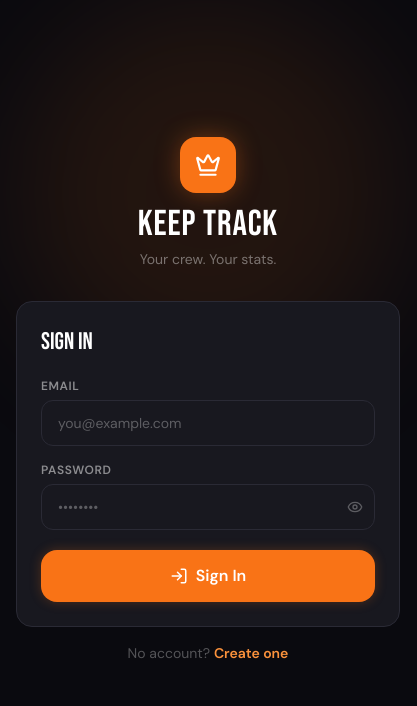
Test case: LoginPage › shows error on invalid MFA code
Step 1. Type "a@a.com" into the field with placeholder "you@example.com" → (208, 423), box [41,400,375,446]
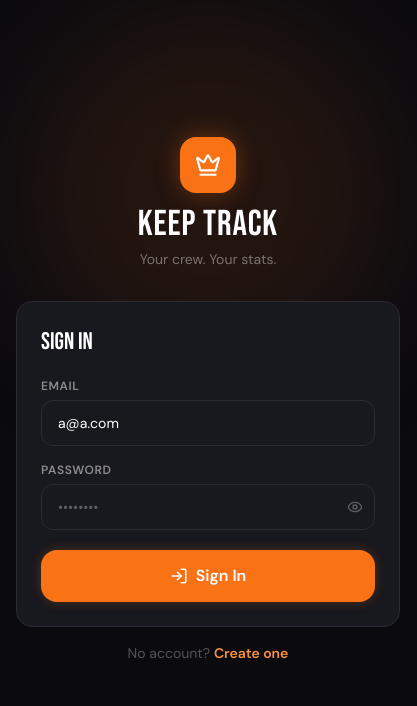
Step 2. Type "password1" into the password field with placeholder "••••••••" → (208, 507), box [41,484,375,530]
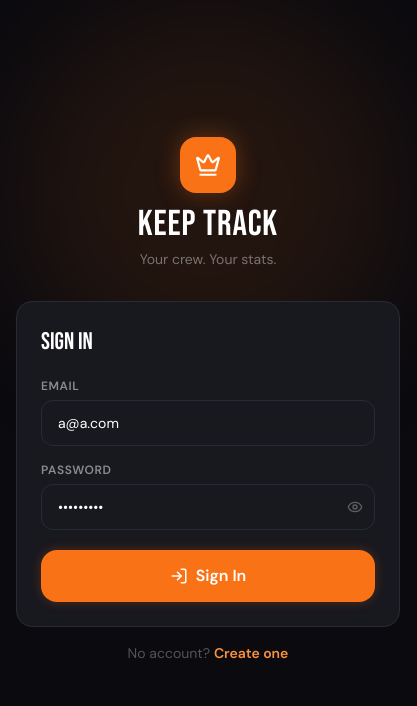
Step 3. Click the button "Sign In" → (208, 576), box [41,550,375,602]
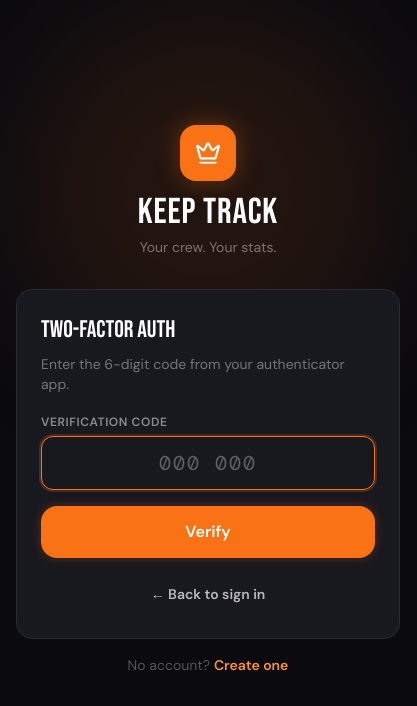
Expected: the field with placeholder "000 000" is shown
Step 4. Type "123456" into the field with placeholder "000 000" → (208, 463), box [41,436,375,490]
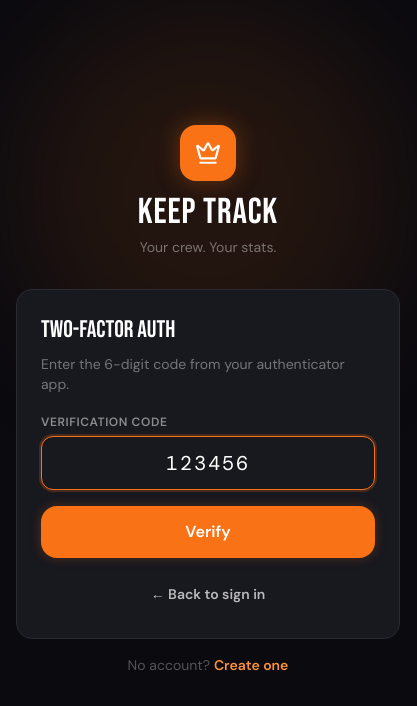
Step 5. Click the button "Verify" → (208, 532), box [41,506,375,558]
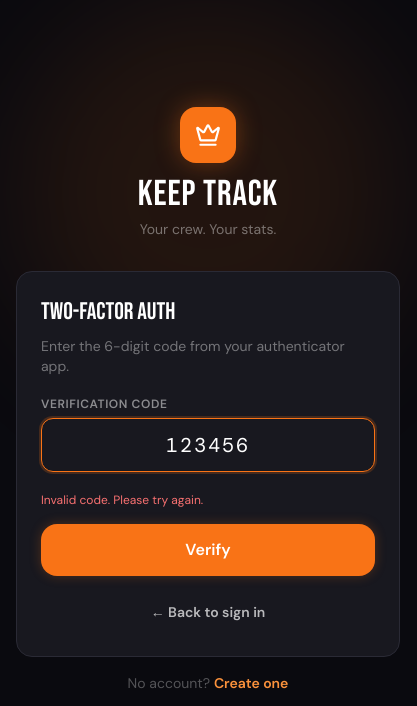
Expected: the text "Invalid code. Please try again." is shown, [41,492,203,508]
